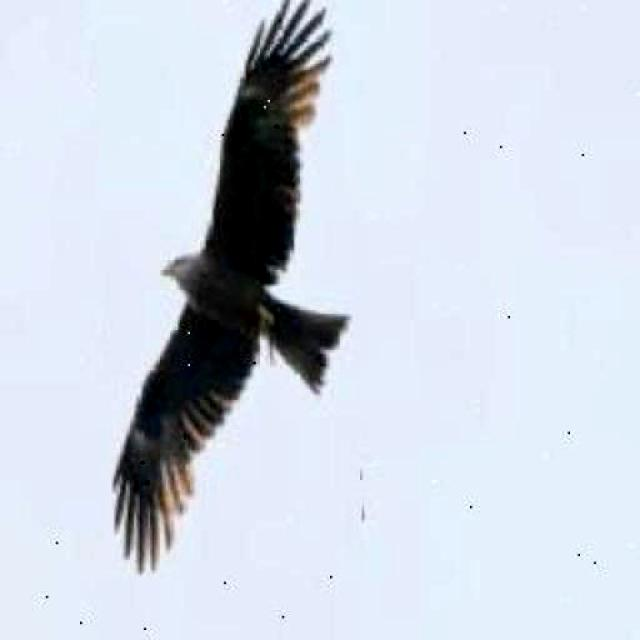airplane: (88, 0, 365, 578)
